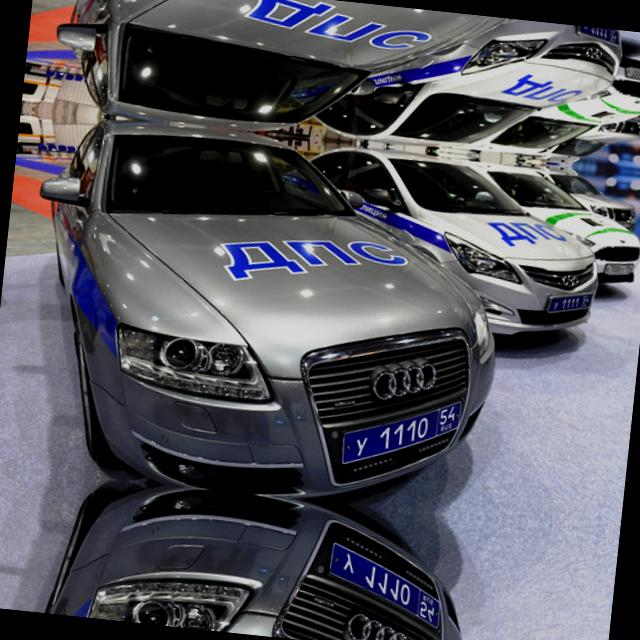police: (328, 388, 466, 479), (313, 538, 451, 628)
